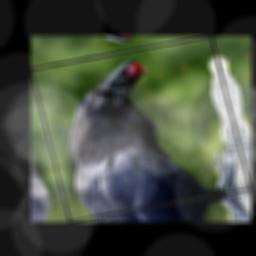Crow: (45, 45, 249, 219)
